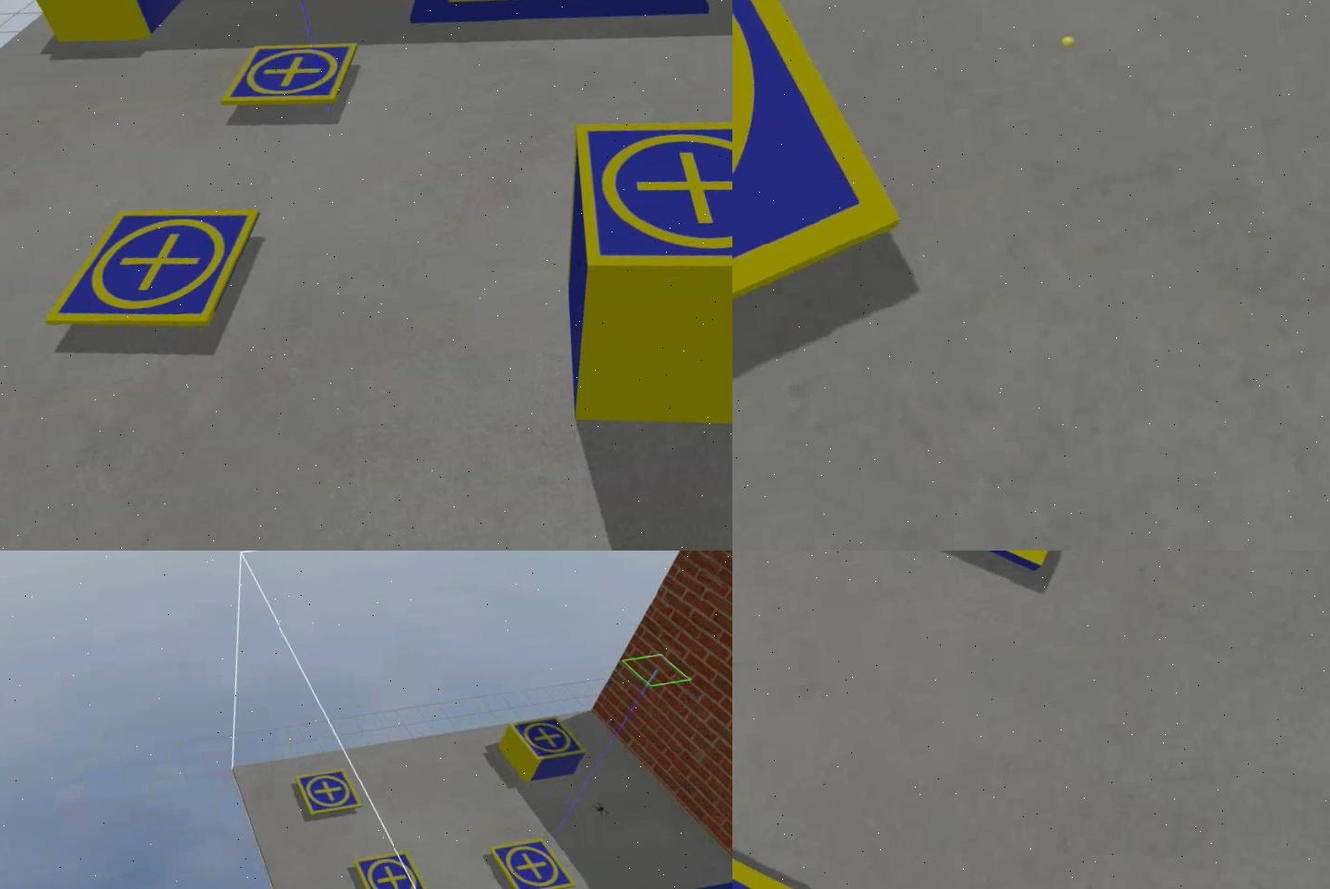large_base: (400, 1, 710, 41)
small_base: (731, 1, 918, 480), (33, 203, 265, 338), (573, 100, 731, 291), (218, 39, 362, 113), (484, 838, 575, 889), (289, 765, 363, 820), (507, 714, 581, 765), (347, 849, 429, 889)
